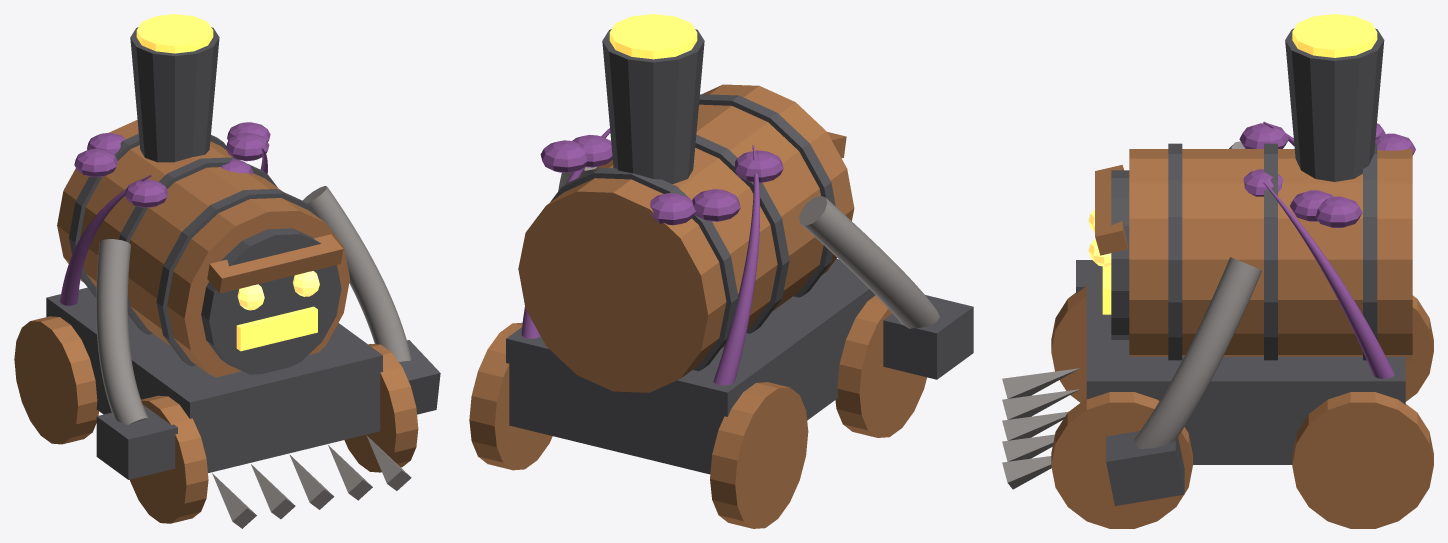
Rendered from engine_of_rot.glb.
3 views of the same model, side by side, from view 1: azimuth 30°, elevation 25°; view 2: azimuth 150°, elevation 25°; view 3: azimuth 270°, elevation 25° (orthographic). The views are drawn at different scales.
Visible parts, largest first — view 1: engine_of_rot_body, piston_left, piston_right; view 2: engine_of_rot_body, piston_left; view 3: engine_of_rot_body, piston_right, piston_left.
Boxes of the visible parts, x1,y1,x2,y2 form: engine_of_rot_body: (14,14,418,528); piston_left: (96,239,177,479); piston_right: (303,186,440,414); engine_of_rot_body: (469,14,926,528); piston_left: (799,195,973,379); engine_of_rot_body: (1002,14,1433,528); piston_right: (1106,257,1261,505); piston_left: (1076,141,1245,293).
Size of the model in its own units: 1.18 by 1.35 by 1.22.
